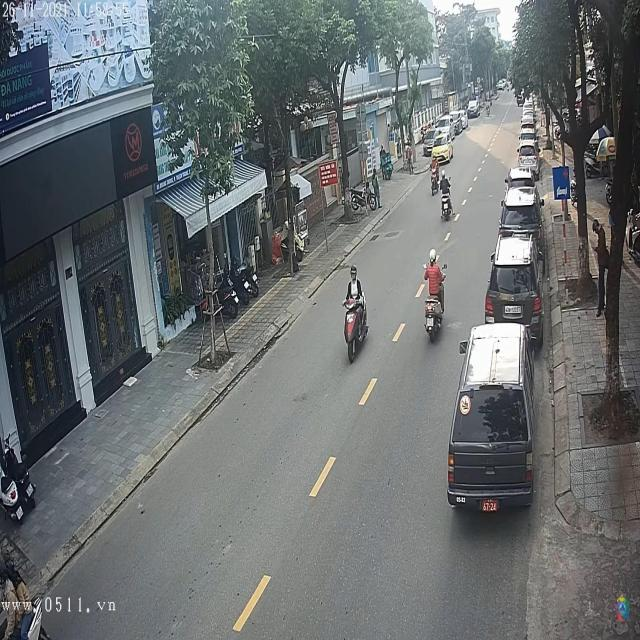car: (449, 324, 535, 511), (485, 234, 543, 334), (499, 189, 544, 238), (468, 99, 481, 118)
motorcycle: (342, 286, 370, 364), (423, 284, 445, 342), (441, 190, 454, 220)
